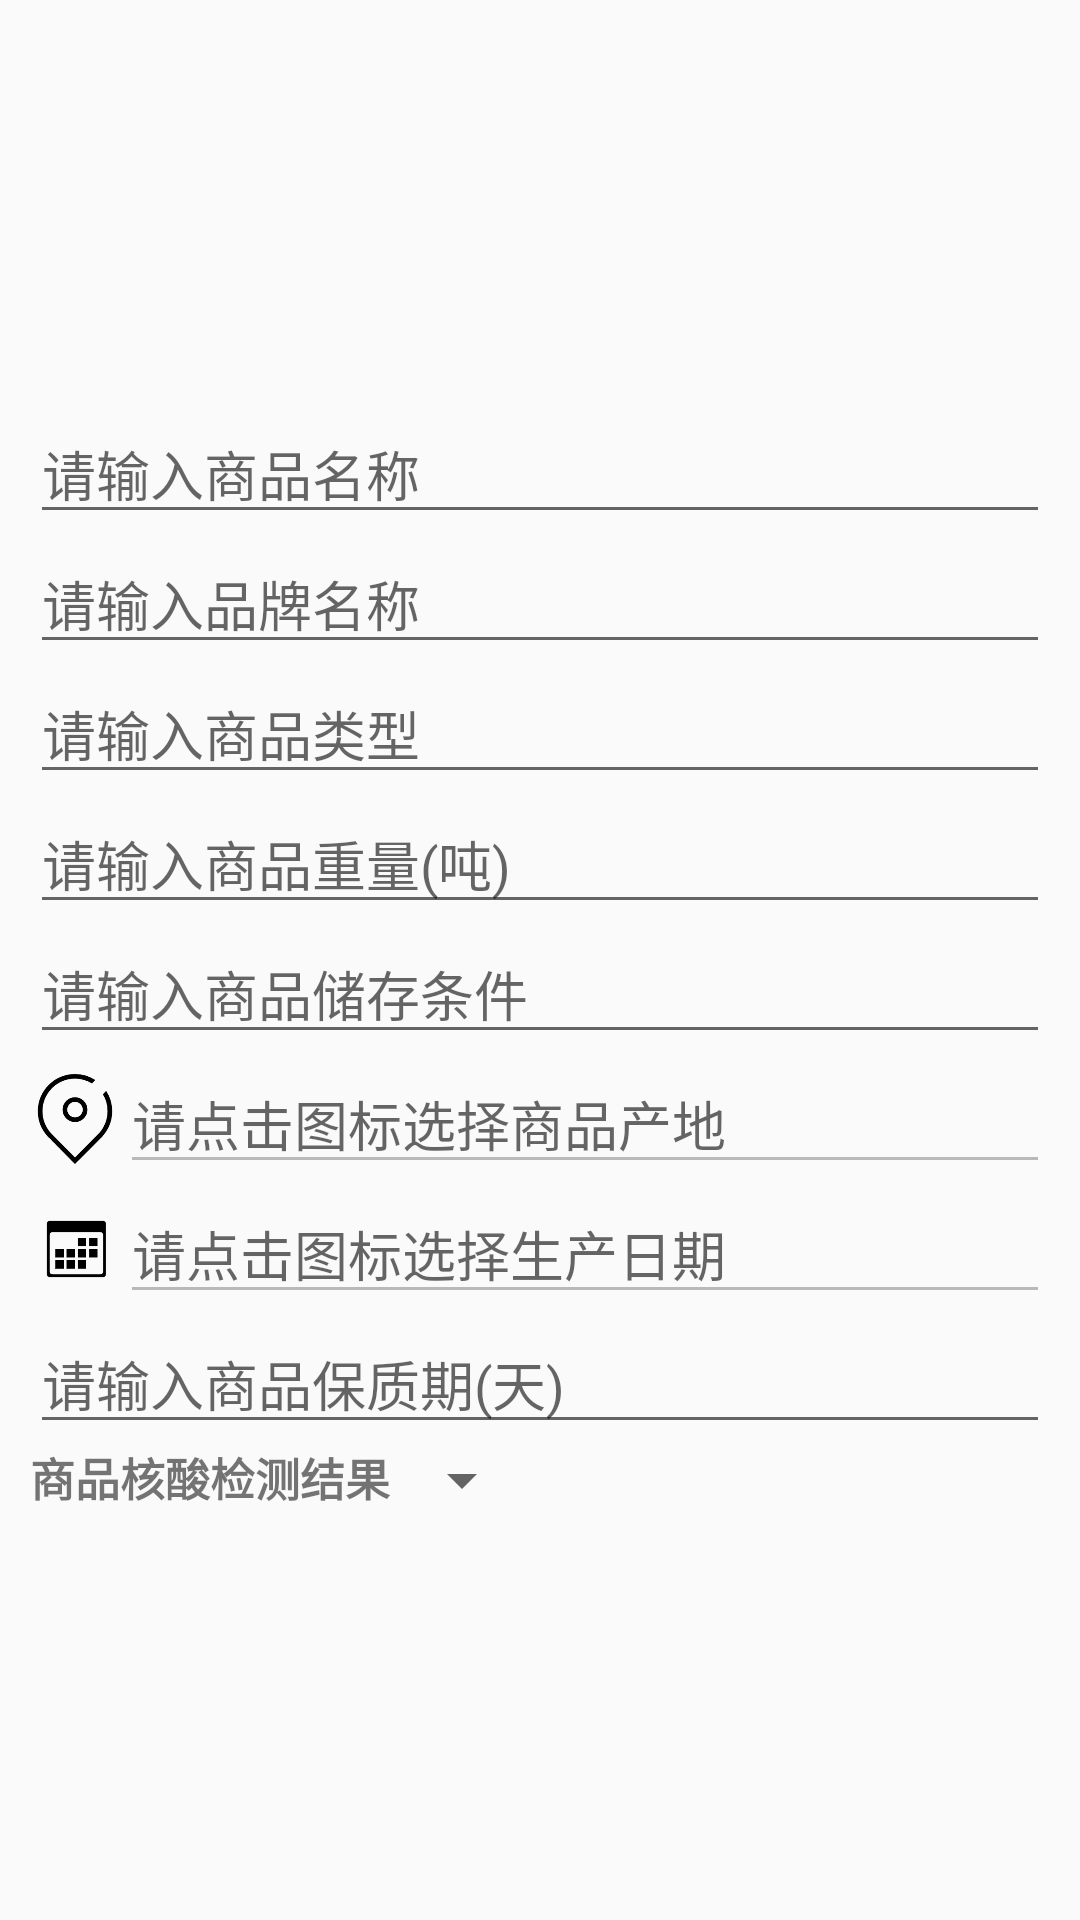

Locate icon controls on the screen. Image size 1080×1920, boxes as (x1, y1, x2, y2).
calendar: (47, 1221, 106, 1277)
place: (37, 1074, 113, 1164)
